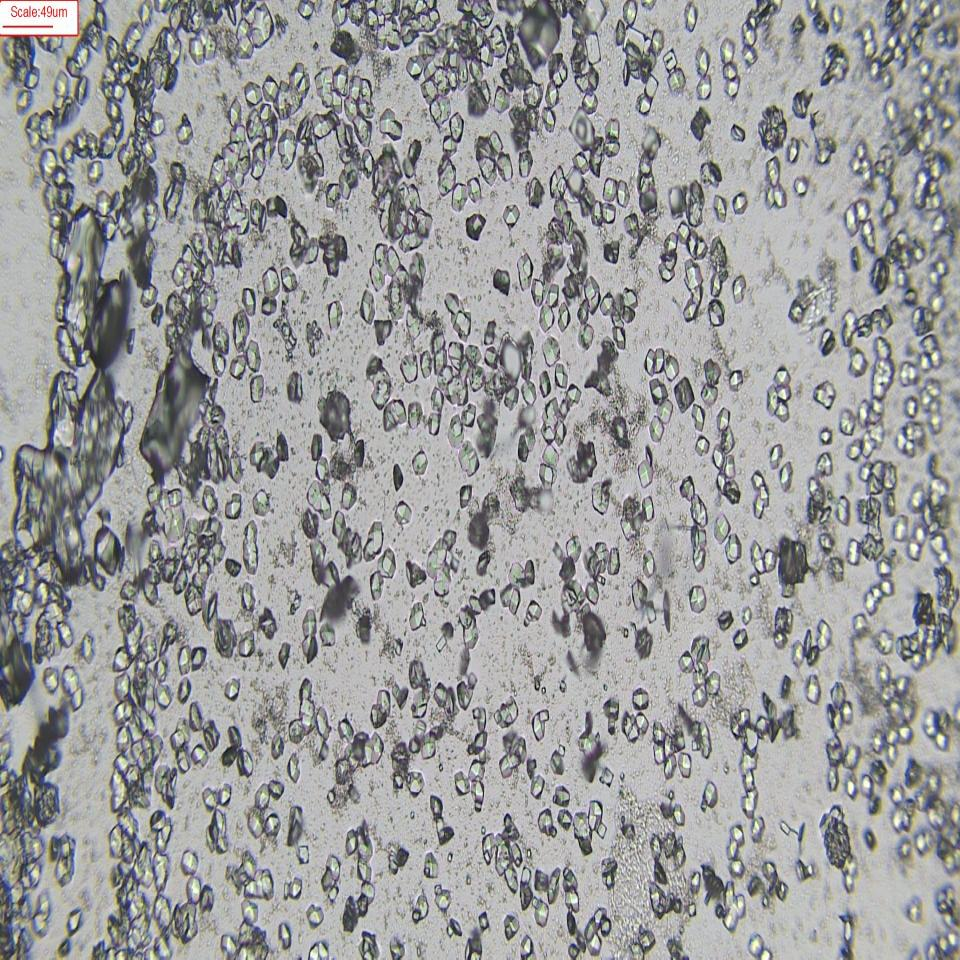crystal: (320, 389, 354, 443), (577, 604, 608, 659), (757, 103, 787, 154), (778, 537, 807, 586), (822, 813, 851, 858), (245, 2, 273, 48), (807, 479, 833, 527), (708, 235, 730, 284), (213, 616, 237, 659), (299, 507, 328, 542), (206, 806, 228, 852), (673, 375, 697, 413), (381, 395, 409, 427), (276, 123, 298, 163), (188, 30, 213, 65), (321, 854, 341, 896), (286, 803, 305, 847), (869, 258, 891, 296), (242, 520, 258, 572), (466, 207, 489, 243), (490, 264, 514, 298), (609, 415, 630, 453), (379, 110, 403, 142), (108, 822, 128, 860), (371, 689, 391, 726), (718, 475, 741, 507), (690, 402, 713, 434), (640, 125, 661, 160), (602, 238, 623, 273), (549, 359, 571, 392), (449, 112, 467, 152), (500, 196, 521, 230), (227, 348, 248, 382), (812, 379, 835, 410), (691, 634, 711, 669), (790, 87, 810, 121), (537, 459, 556, 494), (541, 332, 560, 367), (459, 444, 479, 477), (721, 900, 741, 933), (516, 253, 534, 289), (713, 511, 732, 545), (331, 64, 350, 98), (634, 627, 653, 661), (307, 427, 326, 461), (262, 261, 280, 296), (406, 559, 427, 589), (250, 371, 267, 408), (642, 540, 659, 577), (240, 582, 259, 615), (692, 43, 711, 76), (646, 414, 666, 445), (662, 353, 682, 384), (359, 929, 379, 960), (814, 618, 832, 652), (258, 607, 276, 641), (668, 184, 686, 218), (587, 798, 604, 834), (368, 520, 386, 554), (454, 769, 472, 803), (216, 780, 237, 809), (378, 548, 397, 580), (848, 348, 867, 380), (191, 644, 210, 676), (637, 457, 655, 490), (531, 708, 549, 741), (690, 495, 708, 528), (779, 461, 796, 495), (708, 297, 726, 329), (176, 112, 194, 144), (700, 780, 718, 812), (493, 84, 509, 120), (496, 698, 518, 724), (190, 740, 209, 770), (269, 732, 288, 762), (407, 401, 426, 431), (630, 684, 650, 712), (619, 57, 635, 92), (702, 358, 720, 389), (65, 907, 83, 938), (263, 813, 284, 839), (149, 809, 170, 835), (185, 873, 202, 905), (400, 354, 418, 384), (644, 348, 662, 378), (450, 185, 470, 212), (729, 189, 748, 217), (236, 630, 255, 658), (80, 631, 96, 664), (750, 816, 768, 845), (252, 488, 270, 517), (689, 584, 707, 613), (241, 897, 259, 926), (180, 848, 198, 877), (820, 328, 838, 357), (374, 317, 392, 346), (774, 365, 792, 394), (905, 895, 923, 924), (676, 749, 692, 781), (287, 372, 303, 404), (427, 408, 443, 440), (602, 176, 619, 206), (224, 492, 242, 520), (406, 770, 424, 798), (668, 67, 686, 95), (86, 158, 104, 186), (566, 532, 584, 560), (594, 542, 610, 573), (409, 601, 425, 632), (412, 893, 428, 924), (642, 493, 658, 524), (528, 772, 545, 801), (683, 294, 700, 323), (458, 483, 475, 512), (360, 289, 374, 324), (319, 619, 337, 646), (719, 427, 737, 454), (327, 299, 343, 329), (805, 674, 821, 704), (240, 286, 256, 316), (533, 898, 549, 928), (893, 514, 909, 544), (287, 751, 303, 781), (344, 828, 360, 858), (637, 927, 657, 951), (557, 806, 573, 836), (839, 408, 856, 436), (394, 500, 411, 528), (43, 667, 60, 695), (612, 324, 629, 352), (526, 599, 545, 624), (306, 903, 324, 929), (670, 800, 688, 826), (563, 383, 581, 409), (516, 150, 534, 176), (466, 176, 484, 202), (342, 483, 358, 512), (431, 387, 447, 416), (770, 184, 787, 211), (284, 876, 302, 901), (818, 426, 836, 451), (621, 0, 639, 25), (503, 912, 519, 940), (720, 37, 736, 65), (541, 107, 557, 135), (537, 303, 554, 329), (307, 939, 328, 960), (475, 550, 490, 579), (684, 1, 698, 32), (412, 449, 428, 476), (553, 784, 570, 809), (435, 888, 452, 913), (769, 441, 784, 469), (713, 194, 728, 222), (423, 852, 438, 880), (846, 538, 861, 566), (277, 922, 292, 950), (537, 370, 552, 398), (600, 290, 615, 318), (616, 817, 636, 838), (530, 276, 544, 306), (788, 298, 804, 324), (254, 783, 270, 809), (202, 782, 218, 808), (433, 682, 449, 708), (729, 825, 747, 848), (695, 436, 712, 460), (226, 556, 243, 580), (732, 275, 746, 304), (556, 302, 570, 331), (786, 137, 801, 164), (733, 625, 749, 650), (696, 76, 712, 101), (224, 677, 240, 702), (389, 935, 405, 960), (461, 403, 477, 428), (728, 368, 744, 392), (206, 590, 218, 622), (544, 82, 560, 106), (716, 408, 732, 432), (520, 933, 534, 960), (419, 349, 433, 376), (614, 17, 627, 46), (717, 609, 734, 631), (278, 642, 291, 670), (533, 868, 547, 894), (476, 908, 491, 932), (727, 860, 748, 877), (179, 676, 192, 703), (408, 138, 421, 165), (546, 283, 560, 308), (392, 463, 404, 492), (583, 92, 600, 112), (636, 94, 650, 118), (794, 175, 809, 197), (268, 778, 286, 796), (730, 123, 746, 143), (429, 794, 443, 816), (393, 636, 405, 661), (713, 445, 725, 470), (772, 630, 788, 648), (742, 606, 756, 626), (435, 634, 447, 656), (450, 919, 464, 936), (325, 787, 336, 807), (689, 872, 699, 893)
not_crystal: (912, 594, 938, 664), (287, 222, 321, 269), (249, 437, 292, 474), (335, 524, 363, 564), (937, 568, 960, 614), (61, 665, 83, 710), (872, 356, 894, 396), (848, 197, 870, 235), (750, 471, 770, 512), (622, 710, 646, 744), (928, 475, 950, 510), (909, 522, 928, 560), (923, 709, 943, 743), (892, 805, 911, 834), (914, 830, 931, 856)
